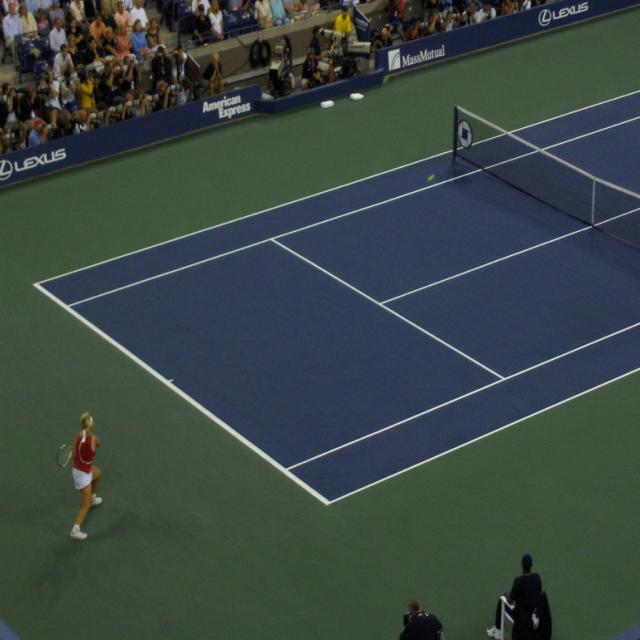Tennis ball: (427, 173, 432, 181)
